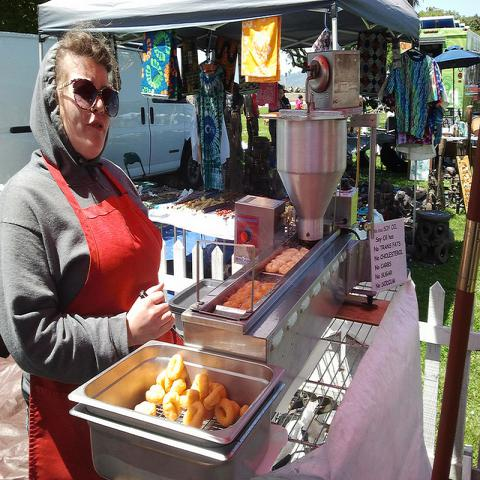truck: (0, 34, 201, 192)
